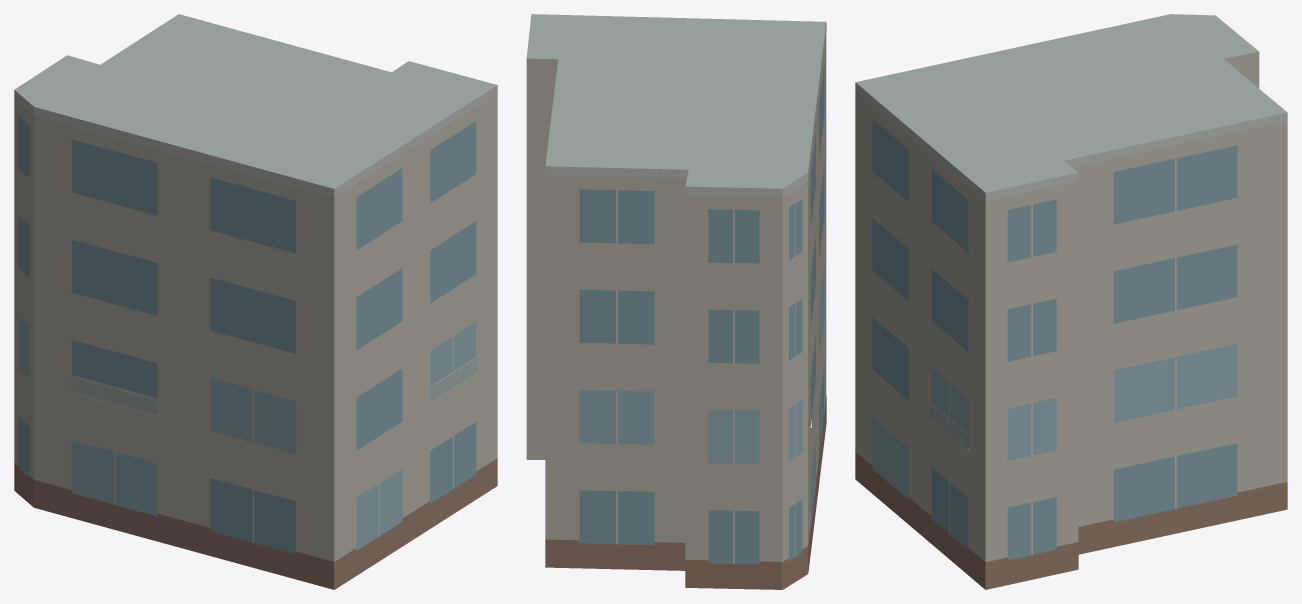
Rendered from survey-upis-32702138.glb.
The picture shows the model from 3 angles, left to right: view 1: azimuth 30°, elevation 25°; view 2: azimuth 150°, elevation 25°; view 3: azimuth 270°, elevation 25°; orthographic projection.
Visible parts, largest first — view 1: survey-upis-32702138.tmp; view 2: survey-upis-32702138.tmp; view 3: survey-upis-32702138.tmp.
Part boxes in pixels (x1,y1,x2,y2): survey-upis-32702138.tmp: (14, 14, 497, 589); survey-upis-32702138.tmp: (526, 14, 826, 589); survey-upis-32702138.tmp: (855, 14, 1287, 589).
Bounding box in the file's own units: 11.02 × 11.4 × 11.26.
